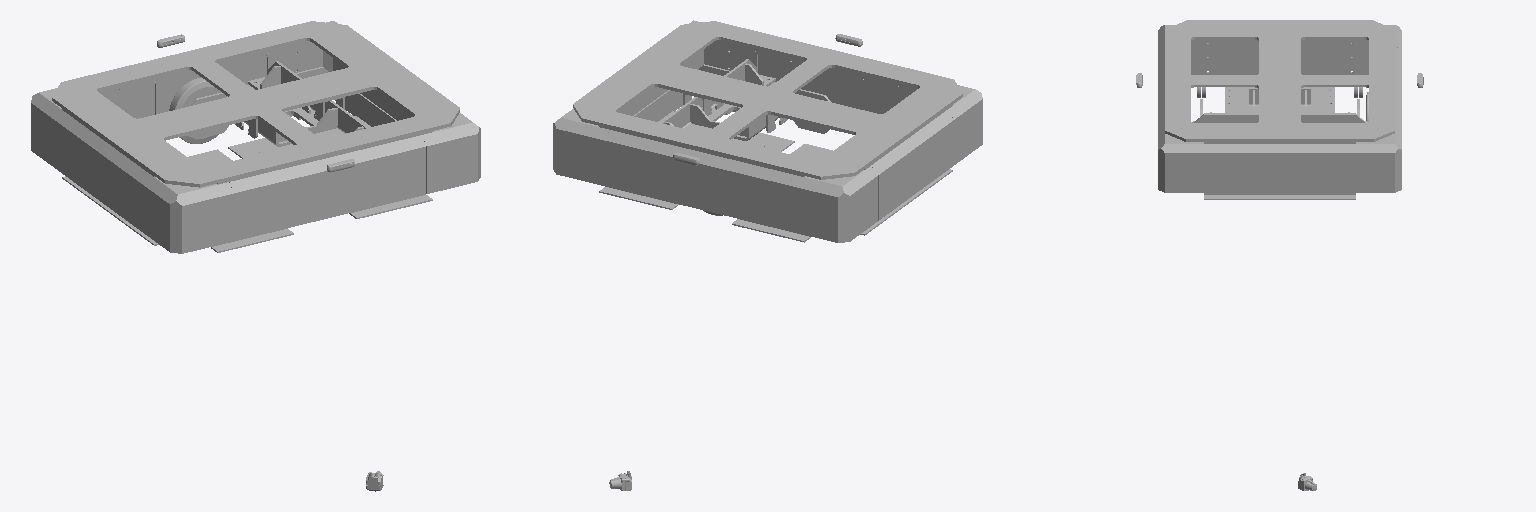
The robot description file, URDF, robot "spmr02":
<?xml version="1.0" encoding="utf-8"?>

<robot name="spmr02">

  <link name="base_link">
    <inertial>
      <origin xyz="0.036333 3.2862E-05 0.086193" rpy="0 0 0" />
      <mass value="50" />
      <inertia ixx="1.9204" ixy="-2.4093E-16" ixz="-0.0004014" iyy="3.0624" iyz="1.9122E-14" izz="4.7207" />
    </inertial>
    <visual>
      <origin xyz="0 0 0" rpy="0 0 0" />
      <geometry>
        <mesh filename="package://spmr02/meshes/base_link.STL" />
      </geometry>
      <material name="gazebo/Yellow">
        <color rgba="0.75294 0.75294 0.75294 1" />
      </material>
    </visual>
    <collision>
      <origin xyz="0 0 0" rpy="0 0 0" />
      <geometry>
        <mesh filename="package://spmr02/meshes/base_link.STL" />
      </geometry>
    </collision>
    <surface>
      <friction>
        <ode>
          <mu>0.001</mu>
          <mu2>0.001</mu2>
        </ode>
      </friction>
    </surface>
  </link>


  <link name="right_wheel_link">
    <inertial>
      <origin xyz="0.83427 1.2432E-08 1.1348E-14" rpy="0 0 0" />
      <mass value="2.0043" />
      <inertia ixx="0.020935" ixy="1.5041E-10" ixz="1.4232E-17" iyy="0.010841" iyz="8.1024E-19" izz="0.010841" />
    </inertial>
    <visual>
      <origin xyz="0 0 0" rpy="0 0 0" />
      <geometry>
        <mesh filename="package://spmr02/meshes/right_wheel_link.STL" />
      </geometry>
      <material name="gazebo/Block">
        <color rgba="0.75294 0.75294 0.75294 1" />
      </material>
    </visual>
    <collision>
      <origin xyz="0 0 0" rpy="0 0 0" />
      <geometry>
        <mesh filename="package://spmr02/meshes/right_wheel_link.STL" />
      </geometry>
    </collision>
  </link>
  <joint name="right_wheel_joint" type="continuous">
    <origin xyz="0 0.40407 -0.001" rpy="1.5708 0 -1.5708" />
    <parent link="base_link" />
    <child link="right_wheel_link" />
    <axis xyz="-1 0 0" />
  </joint>

  <link name="left_wheel_link">
    <inertial>
      <origin xyz="0.83427 2.7462E-14 -1.1491E-14" rpy="0 0 0" />
      <mass value="2.0043" />
      <inertia ixx="0.020935" ixy="3.6958E-18" ixz="1.3244E-17" iyy="0.010841" iyz="4.6529E-19" izz="0.010841" />
    </inertial>
    <visual>
      <origin xyz="0 0 0" rpy="0 0 0" />
      <geometry>
        <mesh filename="package://spmr02/meshes/left_wheel_link.STL" />
      </geometry>
      <material name="gazebo/Block">
        <color rgba="0.75294 0.75294 0.75294 1" />
      </material>
    </visual>
    <collision>
      <origin xyz="0 0 0" rpy="0 0 0" />
      <geometry>
        <mesh filename="package://spmr02/meshes/left_wheel_link.STL" />
      </geometry>
    </collision>
  </link>
  <joint name="left_wheel_joint" type="continuous">
    <origin xyz="0 -0.40407 -0.001" rpy="1.5708 0 1.5708" />
    <parent link="base_link" />
    <child link="left_wheel_link" />
    <axis xyz="1 0 0" />
  </joint>

  <!-- #######################  camera   ################### -->

  <link name="R_camera">
    <inertial>
      <origin xyz="0.00026865 0.00010489 -0.013719" rpy="0 0 0" />
      <mass value="0.046733" />
      <inertia ixx="3.8943E-06" ixy="1.9581E-08" ixz="-1.9673E-08" iyy="5.6937E-05" iyz="-2.7019E-08" izz="5.9986E-05" />
    </inertial>
    <visual>
      <!-- <origin xyz="0 0 0" rpy="0 0 0" /> [1]-->
      <origin xyz="0 0 0" rpy="0 1.5708 0" />
      <geometry>
        <mesh filename="package://spmr02/meshes/R_camera.STL" />
      </geometry>
      <material name="">
        <color rgba="0.75294 0.75294 0.75294 1" />
      </material>
    </visual>
    <!-- <collision>
      <origin xyz="0 0 0" rpy="0 0 0" />
      <geometry>
        <mesh filename="package://spmr02/meshes/R_camera.STL" />
      </geometry>
    </collision> -->
  </link>

  <joint name="R_camera-joint" type="fixed">
    <!-- <origin xyz="0 -0.5945 0.18" rpy="0 0 3.1416" /> -->
    <!-- <origin xyz="0 -0.5945 0.18" rpy="-3.1416 0 3.1416" /> -->
    <!-- <origin xyz="0 -0.6595 0.19" rpy="-3.1416 0 3.1416" /> [1]-->
    <origin xyz="0 -0.6595 0.19" rpy="-3.1416 1.5708 3.1416" />
    <parent link="base_link" />
    <child link="R_camera" />
    <axis xyz="0 0 0" />
  </joint>

  <link name="L_camera">
    <inertial>
      <origin xyz="0.00026865 0.00010489 -0.013719" rpy="0 0 0" />
      <mass value="0.046733" />
      <inertia ixx="3.8943E-06" ixy="1.9581E-08" ixz="-1.9673E-08" iyy="5.6937E-05" iyz="-2.7019E-08" izz="5.9986E-05" />
    </inertial>
    <visual>
      <!-- <origin xyz="0 0 0" rpy="0 0 0" /> [1]-->
      <origin xyz="0 0 0" rpy="0 1.5708 0" />
      
      <geometry>
        <mesh filename="package://spmr02/meshes/L_camera.STL" />
      </geometry>
      <material name="">
        <color rgba="0.75294 0.75294 0.75294 1" />
      </material>
    </visual>
    <!-- <collision>
      <origin xyz="0 0 0" rpy="0 0 0" />
      <geometry>
        <mesh filename="package://spmr02/meshes/L_camera.STL" />
      </geometry>
    </collision> -->
  </link>

  <joint name="L_camera-joint" type="fixed">
    <!-- <origin xyz="0 0.5945 0" rpy="-1.5707 0 3.1416" /> -->
    <!-- <origin xyz="0 0.5945 0.18" rpy="-3.1416 0 3.1416" /> -->
    <!-- <origin xyz="0 0.6595 0.19" rpy="-3.1416 0 3.1416" /> y돌리기 [1] -->
    <origin xyz="0 0.6595 0.19" rpy="-3.1416 1.5708 3.1416" />
    <parent link="base_link" />
    <child link="L_camera" />
    <axis xyz="0 0 0" />
  </joint>

  <!-- <joint name="L_camera-joint" type="fixed">
    <origin xyz="0 0 0" rpy="0 0 0" />
    <parent link="base_link" />
    <child link="L_camera" />
    <axis xyz="0 0 0" />
  </joint> -->

  <!-- ####################################################### -->

  <!-- xyz="0.60802 -0.48579 -0.022036" rpy="0 0 0"-->
  <link name="RF_scan_link">
    <inertial>
      <origin
        xyz="0.60802 -0.48579 -0.022036"
        
        rpy="0 0 0" />
      <mass
        value="0.008" />
      <inertia
        ixx="7.0546E-07"
        ixy="-2.5434E-07"
        ixz="-6.0478E-08"
        iyy="8.2319E-07"
        iyz="5.0403E-08"
        izz="1.2827E-06" />
    </inertial>
    <visual>
      <origin
        xyz="-0.60802 0.48579 0.082036"
        rpy="0 0 0" />
      <geometry>
        <mesh
          filename="package://spmr02/meshes/RF_scan_link.STL" />
      </geometry>
      <material
        name="">
        <color
          rgba="0.75294 0.75294 0.75294 1" />
      </material>
    </visual>
    <!-- <collision>
      <origin
        xyz="-0.60802 0.48579 -0.062036"
        rpy="0 0 0" />
      <geometry>
        <mesh
          filename="package://spmr02/meshes/RF_scan_link.STL" />
      </geometry>
    </collision> -->
  </link>
  
  <joint name="RF_scan_joint" type="fixed">
    <origin
      xyz="0.60802 -0.48579 -0.08"
      rpy="0 0 -0.7853" />
    <parent
      link="base_link" />
    <child
      link="RF_scan_link" />
  </joint>



  <link name="LR_scan_link">
    <inertial>
      <origin
        xyz="-0.60802 0.48579 -0.022036"
        rpy="0 0 0" />
      <mass
        value="0.008" />
      <inertia
      ixx="7.0546E-07"
      ixy="-2.5434E-07"
      ixz="6.0478E-08"
      iyy="8.2319E-07"
      iyz="-5.0403E-08"
      izz="1.2827E-06" />
    </inertial>
    <visual>
      <origin
        xyz="0.60802 -0.48579 0.082036"
        rpy="0 0 0" />
      <geometry>
        <mesh
          filename="package://spmr02/meshes/LR_scan_link.STL" />
      </geometry>
      <material
        name="">
        <color
          rgba="0.75294 0.75294 0.75294 1" />
      </material>
    </visual>
    <!-- <collision>
      <origin
        xyz="0.60802 -0.48579 -0.062036"
        rpy="0 0 0" />
      <geometry>
        <mesh
          filename="package://spmr02/meshes/LR_scan_link.STL" />
      </geometry>
    </collision> -->
  </link>  

  <joint name="LR_scan_joint" type="fixed">
    <origin
      xyz="-0.60802 0.48579 -0.08"
      rpy="0 0 2.3561" />
    <parent
      link="base_link" />
    <child
      link="LR_scan_link" />
  </joint>

  <gazebo>
    <plugin name="gazebo_ros_control" filename="libgazebo_ros_control.so">
      <robotNamespace>/spmr02</robotNamespace>
    </plugin>

    <plugin name="differential_drive_controller" filename="libgazebo_ros_diff_drive.so">
      <alwaysOn>true</alwaysOn>
      <updateRate>100</updateRate>
      <rosDebugLevel>1</rosDebugLevel>
      <leftJoint>left_wheel_joint</leftJoint>
      <rightJoint>right_wheel_joint</rightJoint>
      <torque>500</torque>
      <commandTopic>spmr/cmd_val</commandTopic>
      <odometryTopic>/odom</odometryTopic>
      <odometryFrame>odom</odometryFrame>
      <publishTf>1</publishTf>
      <publishWheelTF>0</publishWheelTF>
      <publishOdomTF>1</publishOdomTF>
      <publishWheelJointState>1</publishWheelJointState>
      <wheelAcceleration>1</wheelAcceleration>
      <wheelTorque>500</wheelTorque>
      <odometrySource>world</odometrySource>
      <robotBaseFrame>base_link</robotBaseFrame>
      <wheelSeparation>0.8</wheelSeparation>
      <wheelDiameter>0.265</wheelDiameter>
    </plugin>
  </gazebo>

  <gazebo reference="RF_scan_link">
    <material value="Gazebo/Red" />
    <sensor type="ray" name="RF_scan">
      <always_on>true</always_on>
      <update_rate>15</update_rate>
      <pose>0.60802 -0.48579 -0.022036 0 0 0</pose>
      <!-- <pose>0 0 0 0 0 0</pose> -->
      <visualize>0</visualize>
      <ray>
        <!-- <pose>0 0 0 0 0 0</pose> -->
        <scan>
          <horizontal>
            <samples>271</samples>
            <resolution>1</resolution>
            <min_angle>-2.35619449019</min_angle>
            <max_angle>2.35619449019</max_angle>
          </horizontal>
        </scan>
        <range>
          <min>0.05</min>
          <max>15.0</max>
          <resolution>0.01</resolution>
        </range>
      </ray>
      <plugin name="gazebo_ros_RF_scan_controller" filename="libgazebo_ros_laser.so">
        <gaussianNoise>0.005</gaussianNoise>
        <alwaysOn>true</alwaysOn>
        <updateRate>15</updateRate>
        <topicName>RF_scan</topicName>
        <frameName>RF_scan</frameName>
      </plugin>
    </sensor>
  </gazebo>


  <gazebo reference="LR_scan_link">
    <material value="Gazebo/Blue" />
    <sensor type="ray" name="LR_scan">
      <always_on>true</always_on>
      <update_rate>15</update_rate>
      <!-- <pose>-0.60802 0.48579 -0.022036 0 0 0</pose> -->
      <pose>0 0 0 0 0 0</pose>
      <visualize>0</visualize>
      <ray>
        <scan>
          <horizontal>
            <samples>271</samples>
            <resolution>1</resolution>
            <min_angle>-2.35619449019</min_angle>
            <max_angle>2.35619449019</max_angle>
          </horizontal>
        </scan>
        <range>
          <min>0.05</min>
          <max>15.0</max>
          <resolution>0.01</resolution>
        </range>
      </ray>
      <plugin name="gazebo_ros_LR_scan_controller" filename="libgazebo_ros_laser.so">
        <gaussianNoise>0.005</gaussianNoise>
        <alwaysOn>true</alwaysOn>
        <updateRate>15</updateRate>
        <topicName>LR_scan</topicName>
        <frameName>LR_scan</frameName>
      </plugin>
    </sensor>
  </gazebo>

  <!-- #######################   camera plug in   ######################### -->

  <!-- L_camera sensor -->
  <gazebo reference="L_camera">
    <sensor name="L_camera" type="camera">
      <camera name="L_camera">
        <horizontal_fov>1.047</horizontal_fov>
        <image>
          <width>800</width>
          <height>1280</height>
          <format>R8G8B8</format>
        </image>
        <clip>
          <near>0.1</near>
          <far>10.0</far>
        </clip>
      </camera>
      <plugin name="camera_controller" filename="libgazebo_ros_camera.so">
        <alwaysOn>true</alwaysOn>
        <updateRate>30.0</updateRate>
        <cameraName>L_camera</cameraName>
        <imageTopicName>L_camera_image_raw</imageTopicName>
        <cameraInfoTopicName>L_camera_info</cameraInfoTopicName>
        <frameName>L_camera</frameName>
        <hackBaseline>0.07</hackBaseline>
        <distortionK1>0.0</distortionK1>
        <distortionK2>0.0</distortionK2>
        <distortionK3>0.0</distortionK3>
        <distortionT1>0.0</distortionT1>
        <distortionT2>0.0</distortionT2>
        <!-- <Cx>320.5</Cx>
        <Cy>240.5</Cy>
        <Fx>554.255</Fx>
        <Fy>554.255</Fy> -->
        <!-- <height>1280</height>
        <width>800</width> -->
        <distortion_model>plumb_bob</distortion_model>
      </plugin>
    </sensor>
  </gazebo>

  <!-- R_camera sensor -->
  <gazebo reference="R_camera">
    <sensor name="R_camera" type="camera">
      <camera name="R_camera">
        <horizontal_fov>1.047</horizontal_fov>
        <!-- <horizontal_fov>1.57</horizontal_fov> -->
        <image>
          <width>800</width>
          <height>1280</height>
          <format>R8G8B8</format>
        </image>
        <clip>
          <near>0.1</near>
          <far>10.0</far>
        </clip>
      </camera>
      <plugin name="camera_controller" filename="libgazebo_ros_camera.so">
        <alwaysOn>true</alwaysOn>
        <updateRate>30.0</updateRate>
        <cameraName>R_camera</cameraName>
        <imageTopicName>R_camera_image_raw</imageTopicName>
        <cameraInfoTopicName>R_camera_info</cameraInfoTopicName>
        <frameName>R_camera</frameName>
        <hackBaseline>0.07</hackBaseline>
        <distortionK1>0.0</distortionK1>
        <distortionK2>0.0</distortionK2>
        <distortionK3>0.0</distortionK3>
        <distortionT1>0.0</distortionT1>
        <distortionT2>0.0</distortionT2>
        <!-- <Cx>320.5</Cx>
        <Cy>240.5</Cy>
        <Fx>554.255</Fx>
        <Fy>554.255</Fy> -->
        <!-- <height>1280</height>
        <width>800</width> -->
        <distortion_model>plumb_bob</distortion_model>
      </plugin>
    </sensor>
  </gazebo>
  

  <!-- #################################################################### -->

</robot>

--- Render facts (derived) ---
Views: 3 orthographic renders of the robot side by side, from view 1: azimuth 30°, elevation 25°; view 2: azimuth 150°, elevation 25°; view 3: azimuth 270°, elevation 25°.
Robot: spmr02 — 7 links, 6 joints (2 continuous, 4 fixed); root link base_link; default pose: all joints at 0.
Links seen in each view (by area): view 1: base_link, left_wheel_link; view 2: base_link; view 3: base_link.
Link boxes in pixels (x1,y1,x2,y2): base_link: [31, 21, 480, 253]; left_wheel_link: [169, 77, 227, 143]; base_link: [553, 20, 982, 242]; base_link: [1158, 20, 1401, 199].
Size in the robot's own frame: 1.39 by 1.35 by 1.85 metres.
Meshes: 7 distinct files referenced, 5 mesh visuals loaded (5 binary STL); not drawn: 2 (reference not matched to a file when rendering).
